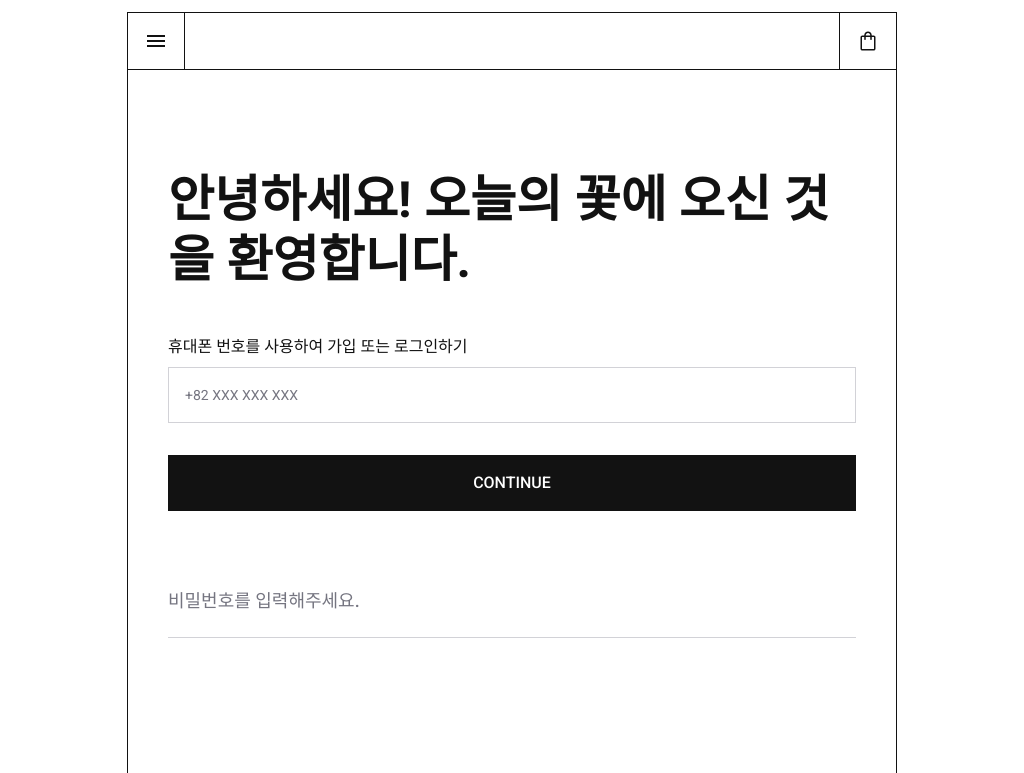
로그인 테스트 › 로그인 진행 메시지가 나타난다.
In the field with test id "phoneInput": (512, 395) [168,367,856,423], type "01087971558"
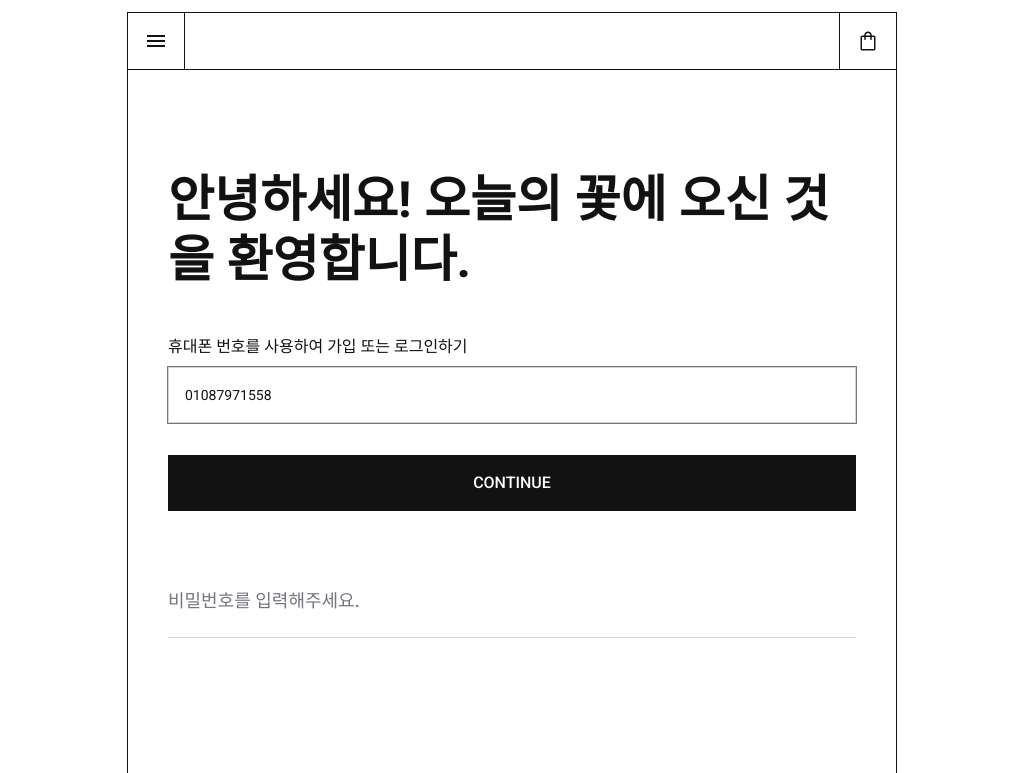
Click the button with test id "phoneBtn": (512, 483) [168,455,856,511]
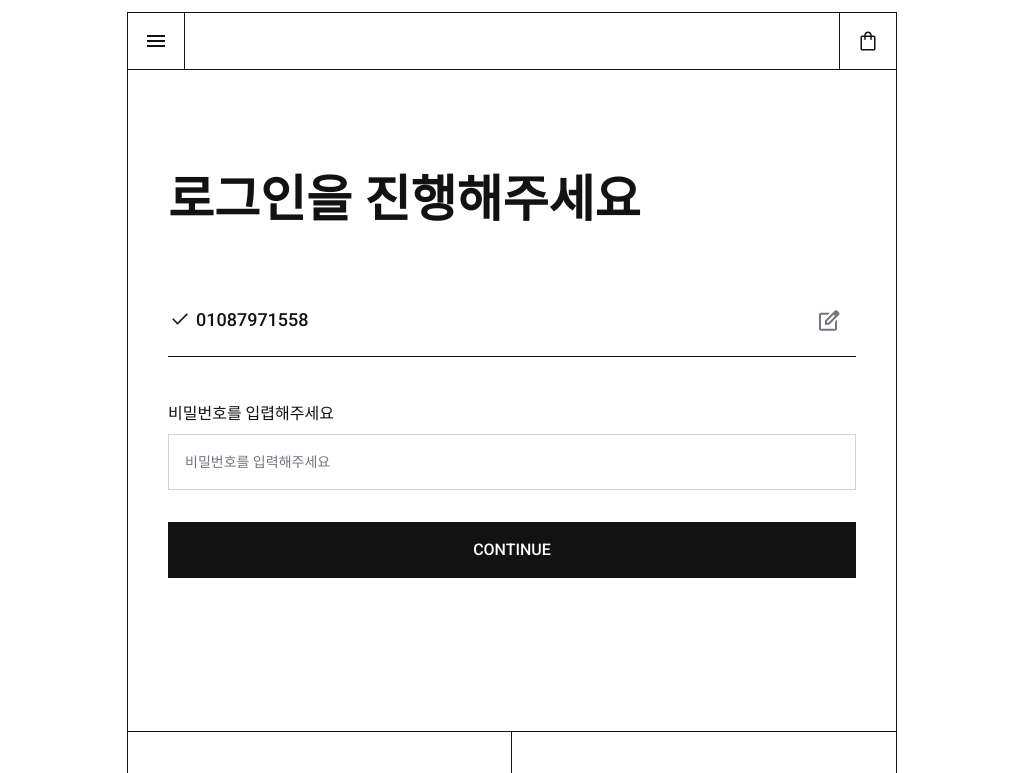
Check: the text with test id "loginHelp" reads "로그인을 진행해주세요", box [168,171,640,229]
